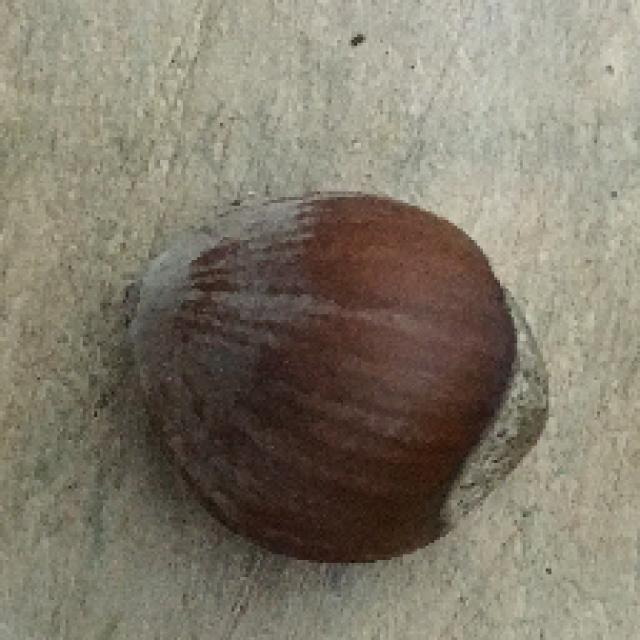qualityHazelnut: (119, 172, 551, 561)
